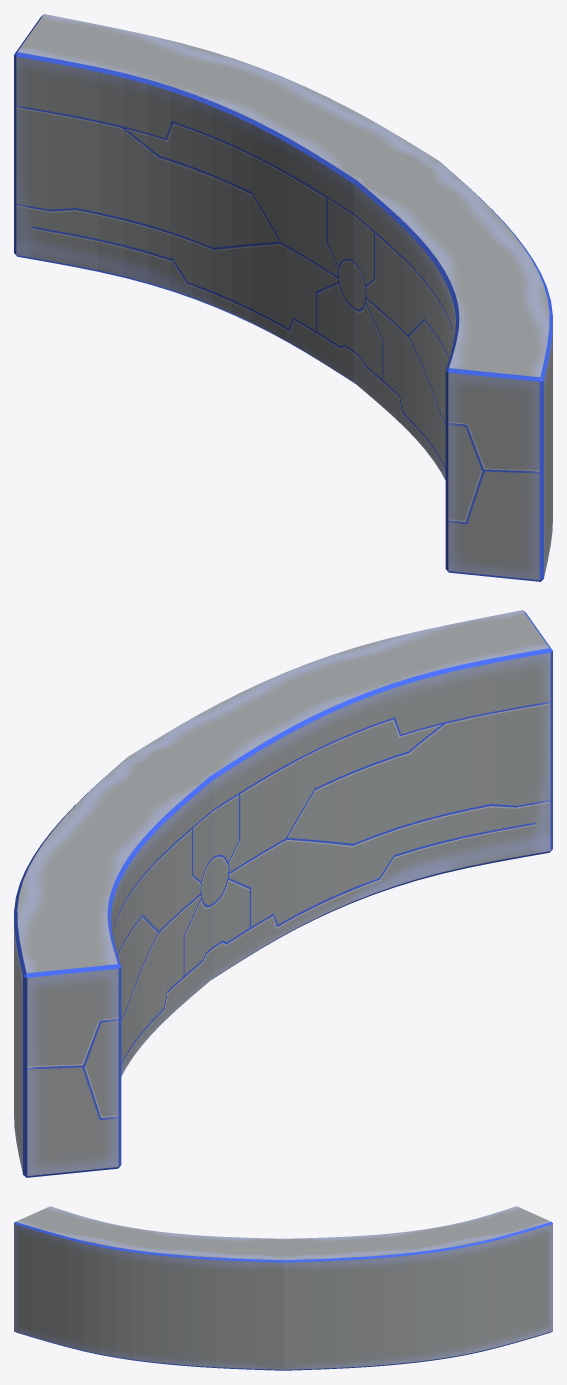
Rendered from Cacco.fbx.
The picture shows the model from 3 angles, top to bottom: view 1: azimuth 30°, elevation 25°; view 2: azimuth 150°, elevation 25°; view 3: azimuth 270°, elevation 25°; orthographic projection. The views are drawn at different scales.
Visible parts, largest first — view 1: Cube; view 2: Cube; view 3: Cube.
Part boxes in pixels (<box>): Cube: <box>14,14,552,581</box>; Cube: <box>14,610,552,1177</box>; Cube: <box>14,1206,552,1370</box>.
Size of the model in its own units: 480 by 447 by 1975.
1 material, 1 textured.
